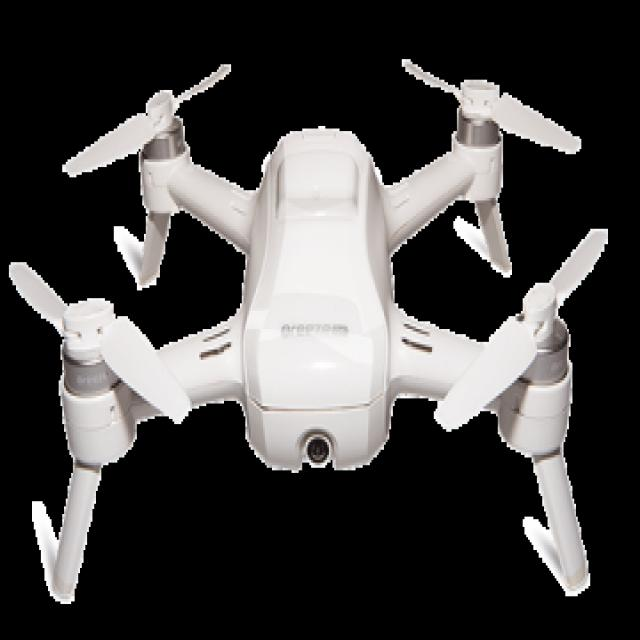drone: (32, 90, 628, 550)
